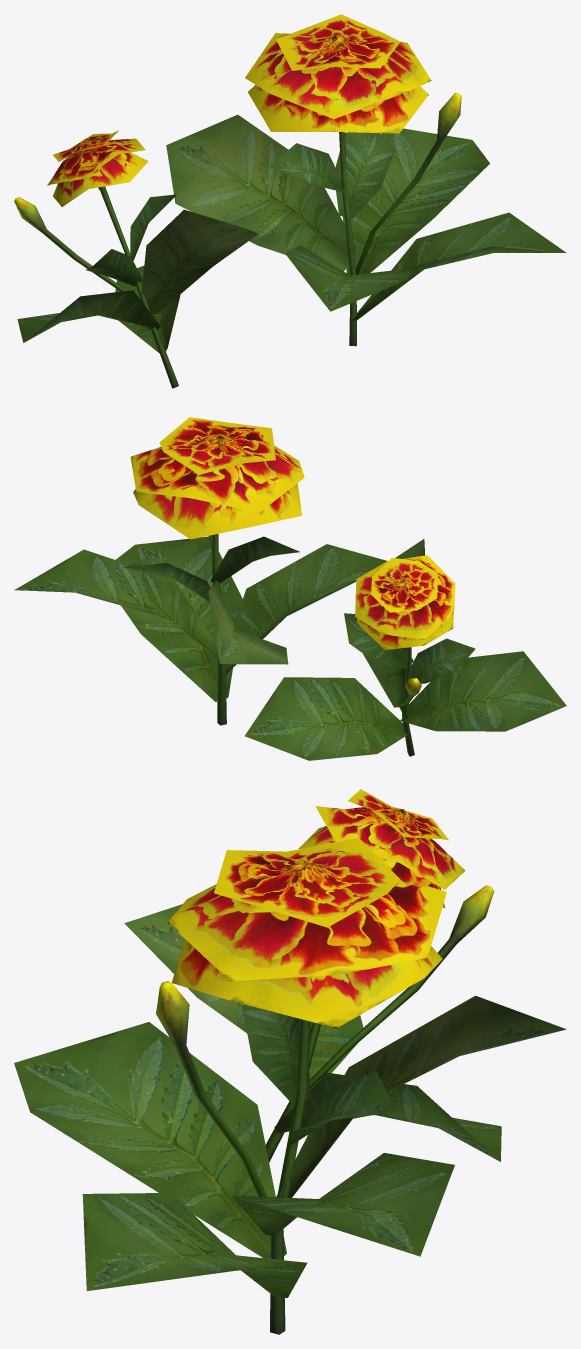
File: French Marigold.FBX
3 views of the same model, one above another, from view 1: azimuth 30°, elevation 25°; view 2: azimuth 150°, elevation 25°; view 3: azimuth 270°, elevation 25° (orthographic). The views are drawn at different scales.
Visible parts, largest first — view 1: French marigold, French marigold2; view 2: French marigold, French marigold2; view 3: French marigold, French marigold2.
Boxes of the visible parts, x1=… form: French marigold: x1=166, y1=14, x2=566, y2=346; French marigold2: x1=14, y1=130, x2=258, y2=388; French marigold: x1=14, y1=417, x2=387, y2=725; French marigold2: x1=244, y1=539, x2=566, y2=760; French marigold: x1=14, y1=838, x2=566, y2=1334; French marigold2: x1=124, y1=789, x2=501, y2=1162.
Size of the model in its own units: 98.07 by 56.15 by 60.56.
